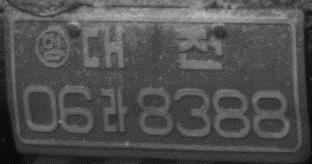0: (21, 82, 58, 132)
3: (174, 86, 212, 140)
6: (57, 83, 94, 134)
8: (211, 88, 251, 140), (135, 85, 174, 136), (251, 88, 290, 139)
대전_D: (80, 22, 224, 72)
라: (98, 86, 129, 133)
영: (34, 26, 69, 67)
